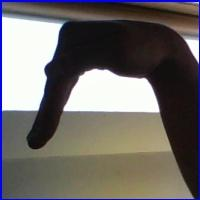A: (16, 16, 185, 173)
